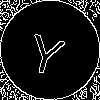Y: (25, 25, 69, 78)
